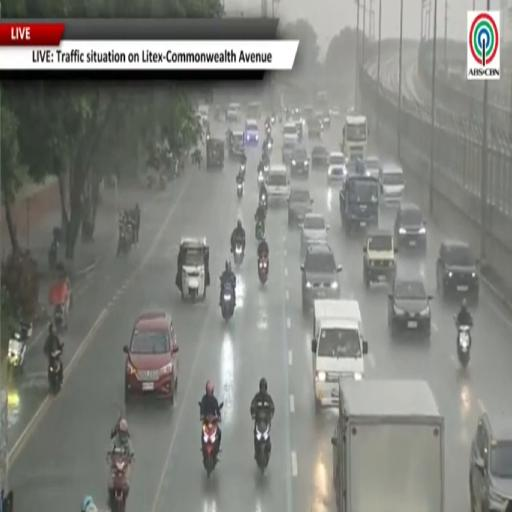car: (124, 312, 178, 404), (469, 412, 511, 511), (301, 245, 342, 311), (436, 240, 479, 301), (388, 278, 432, 335), (364, 230, 396, 287), (394, 203, 426, 250), (300, 213, 329, 258), (265, 164, 290, 203), (380, 165, 405, 202), (288, 188, 312, 226), (290, 144, 309, 178), (328, 152, 347, 181), (311, 146, 329, 169), (245, 119, 259, 146), (365, 156, 381, 179), (282, 139, 296, 164), (283, 123, 297, 146), (307, 118, 323, 138), (226, 102, 241, 123), (197, 103, 209, 126), (246, 102, 260, 119), (295, 121, 305, 140), (315, 111, 324, 131), (302, 106, 314, 120), (292, 108, 303, 123), (322, 111, 330, 127), (329, 108, 340, 118)
motorcycle: (108, 451, 131, 511), (7, 328, 28, 382), (202, 415, 220, 477), (49, 279, 70, 331), (255, 418, 270, 474), (48, 349, 62, 394), (457, 325, 471, 369), (221, 283, 235, 321), (117, 223, 133, 255), (53, 304, 67, 331), (48, 238, 58, 269), (258, 258, 268, 283), (233, 244, 244, 265), (255, 219, 264, 241), (159, 173, 167, 190), (259, 194, 267, 211), (258, 170, 264, 186), (237, 182, 243, 198), (240, 164, 246, 175), (267, 140, 272, 152), (266, 124, 271, 135), (264, 164, 269, 175), (271, 115, 275, 124)
truck: (331, 379, 444, 511), (312, 299, 368, 411), (339, 173, 379, 233), (342, 116, 369, 161)
